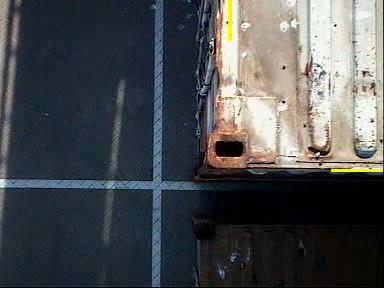groundmarker_2: (93, 9, 161, 56), (99, 155, 162, 192)
